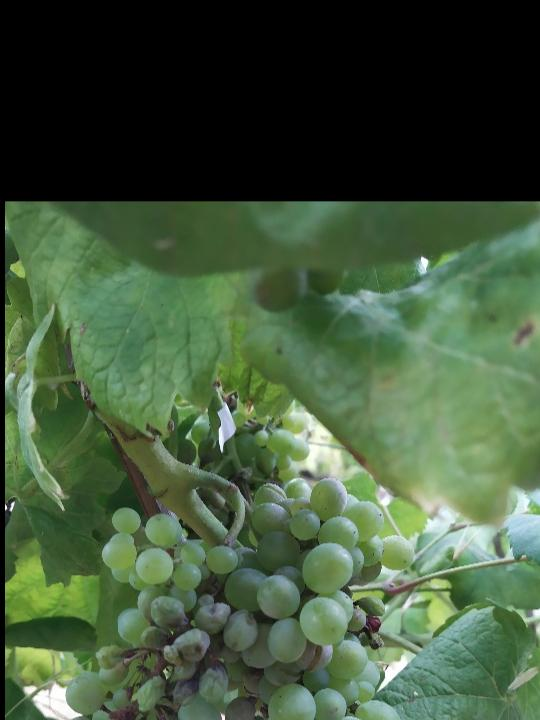grape: (39, 474, 418, 720)
